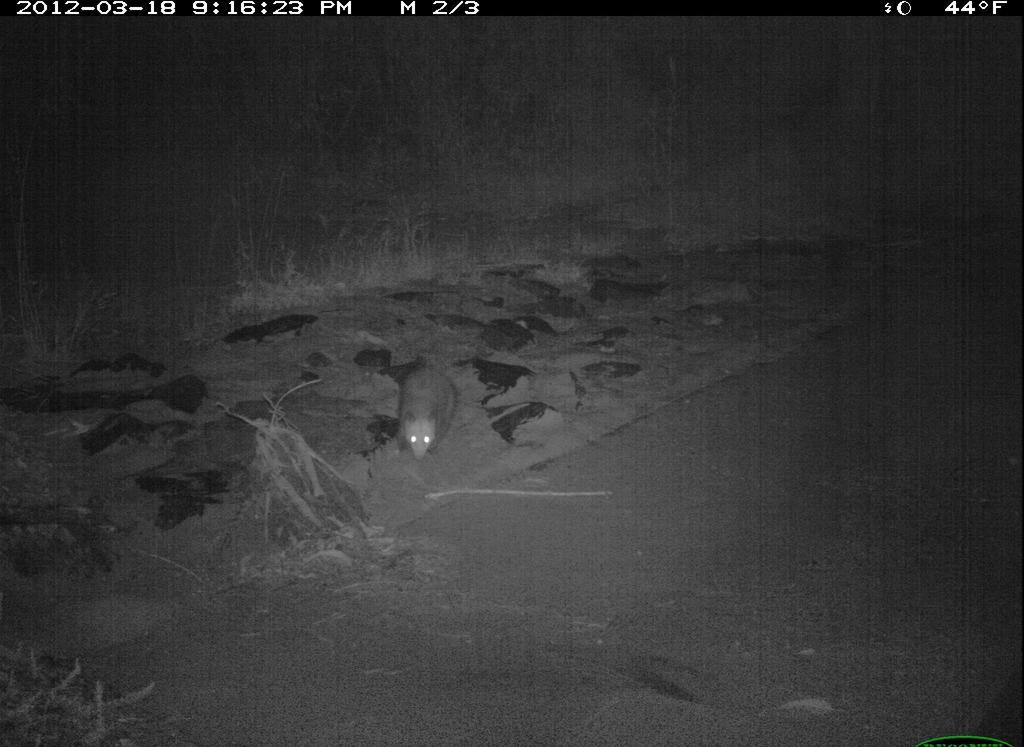opossum: (396, 344, 468, 465)
